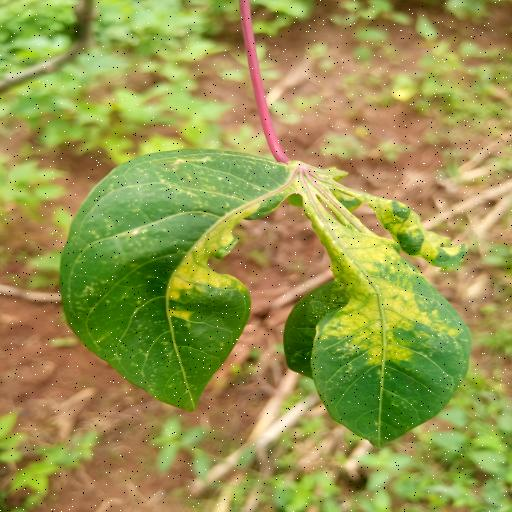Cassava_Mosaic: (58, 136, 482, 450)
